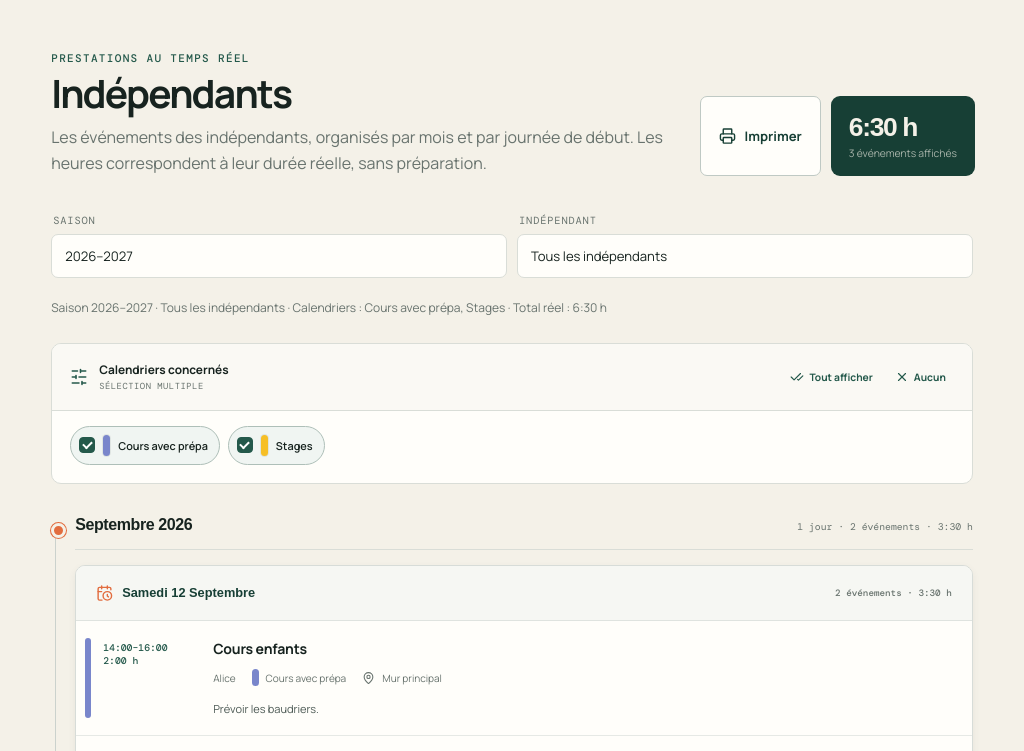
it: IndependentEventsPage › creates an invoice from selected events and makes them unavailable afterwards
Expected: the heading "Septembre 2026" is shown, [75,516,192,534]
Step 1. Select "Alice" in the dropdown labelled "Indépendant" → (745, 256), box [517,234,973,278]
(page scrolled)
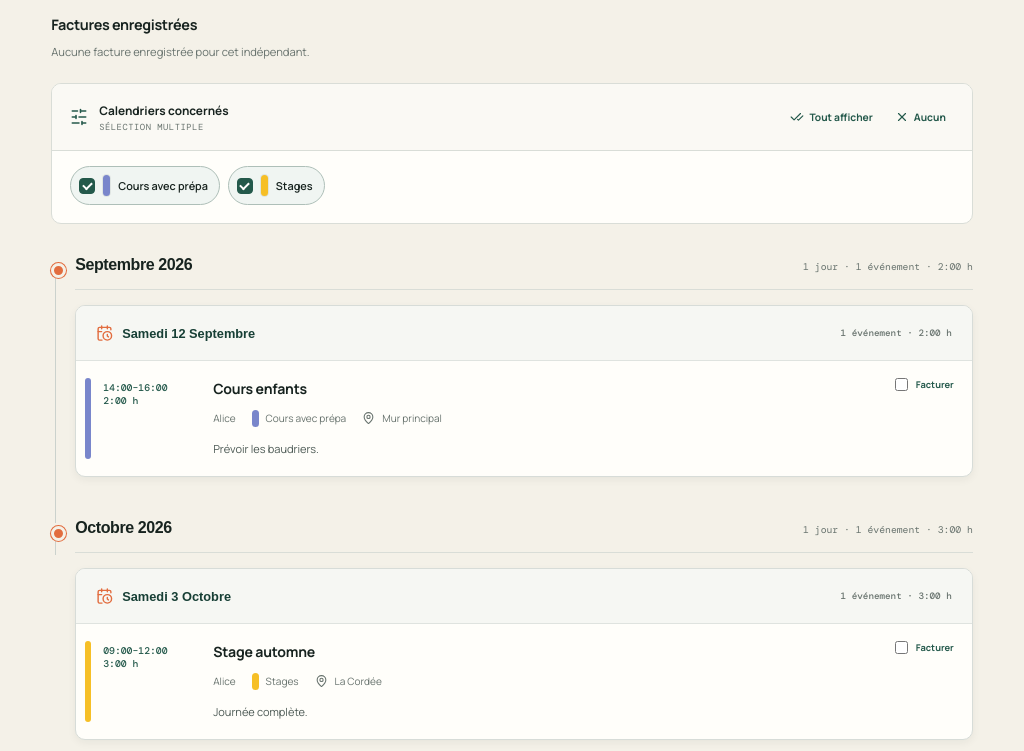
Step 2. Click the checkbox named "Ajouter Cours enfants à la facture" → (901, 385), box [895,378,908,392]
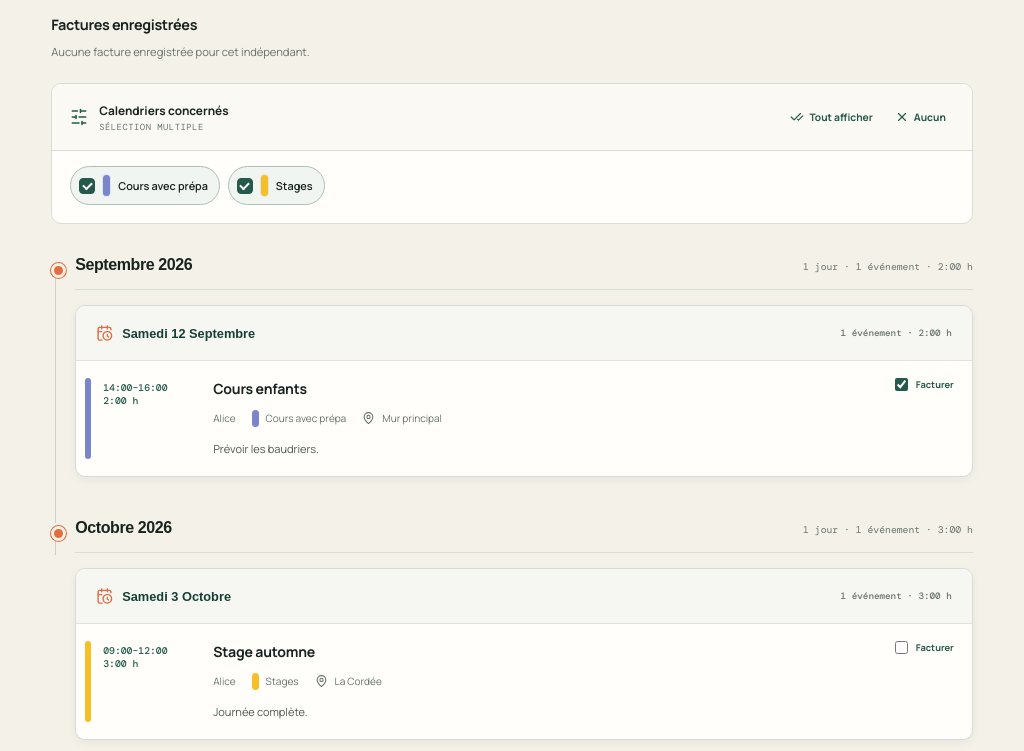
Step 3. Click the checkbox named "Ajouter Stage automne à la facture" → (901, 648), box [895,641,908,654]
(page scrolled)
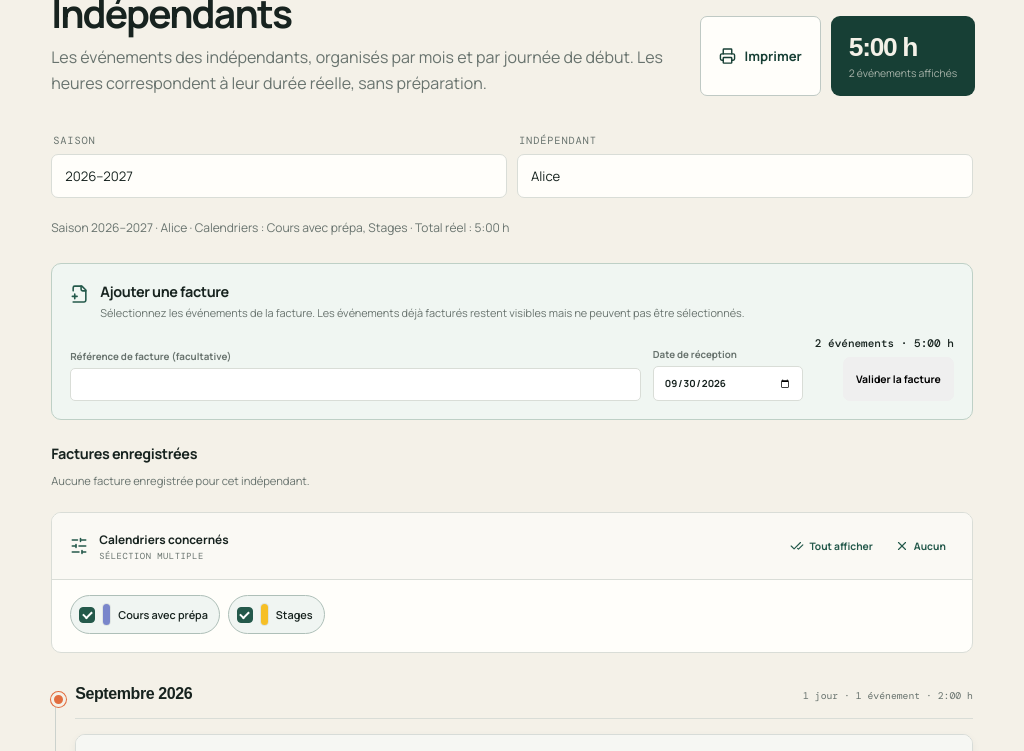
Now the text "2 événements · 5:00 h" is shown, box [815,336,954,350]
Step 4. Type "FAC-42" into the field labelled "Référence de facture (facultative)" → (356, 385), box [70,368,641,402]
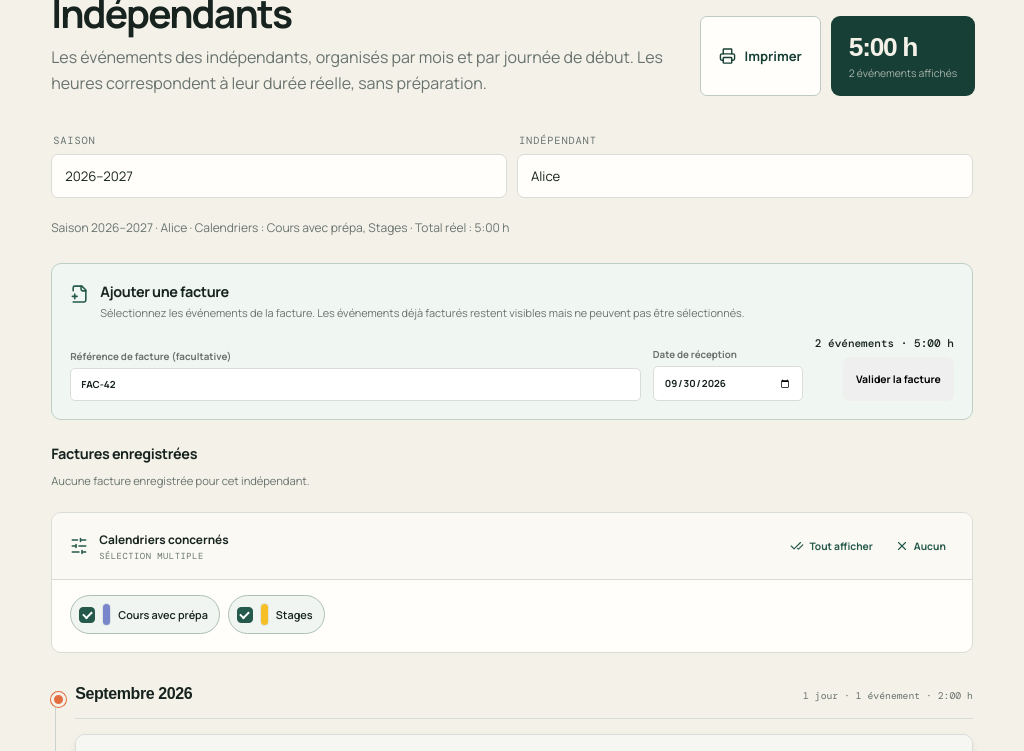
Step 5. Click the button "Valider la facture" → (898, 380), box [843,358,954,402]
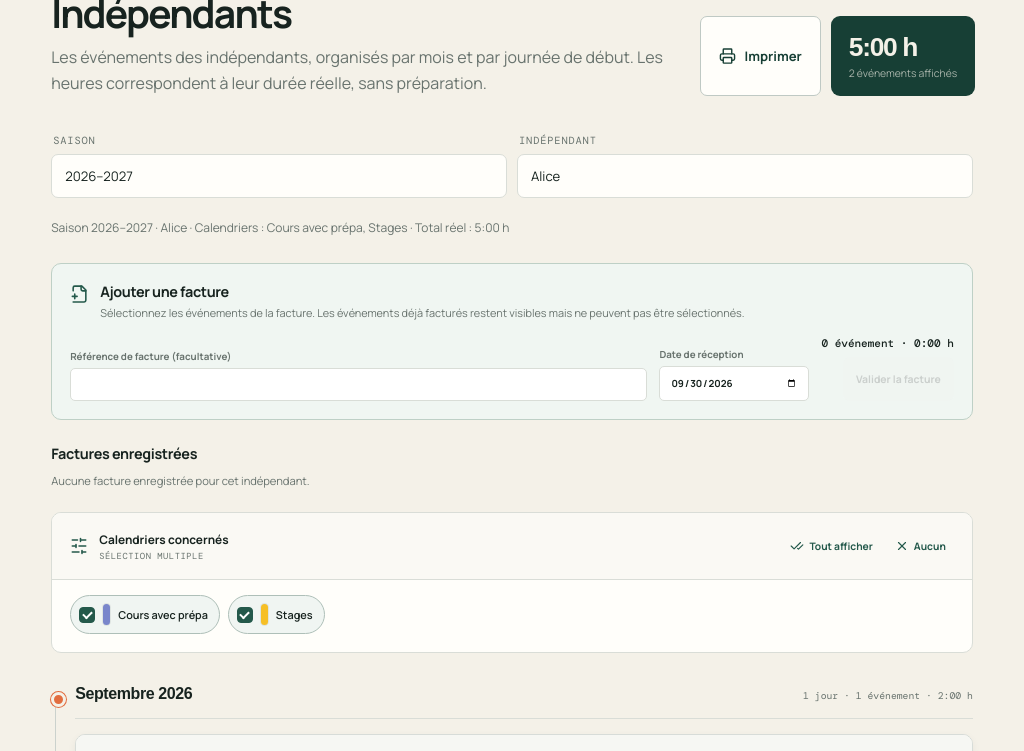
Now the button "Valider la facture" is disabled, box [843,358,954,402]
